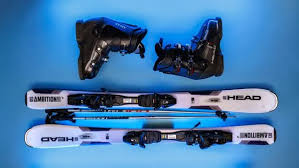skis: (20, 86, 279, 149)
